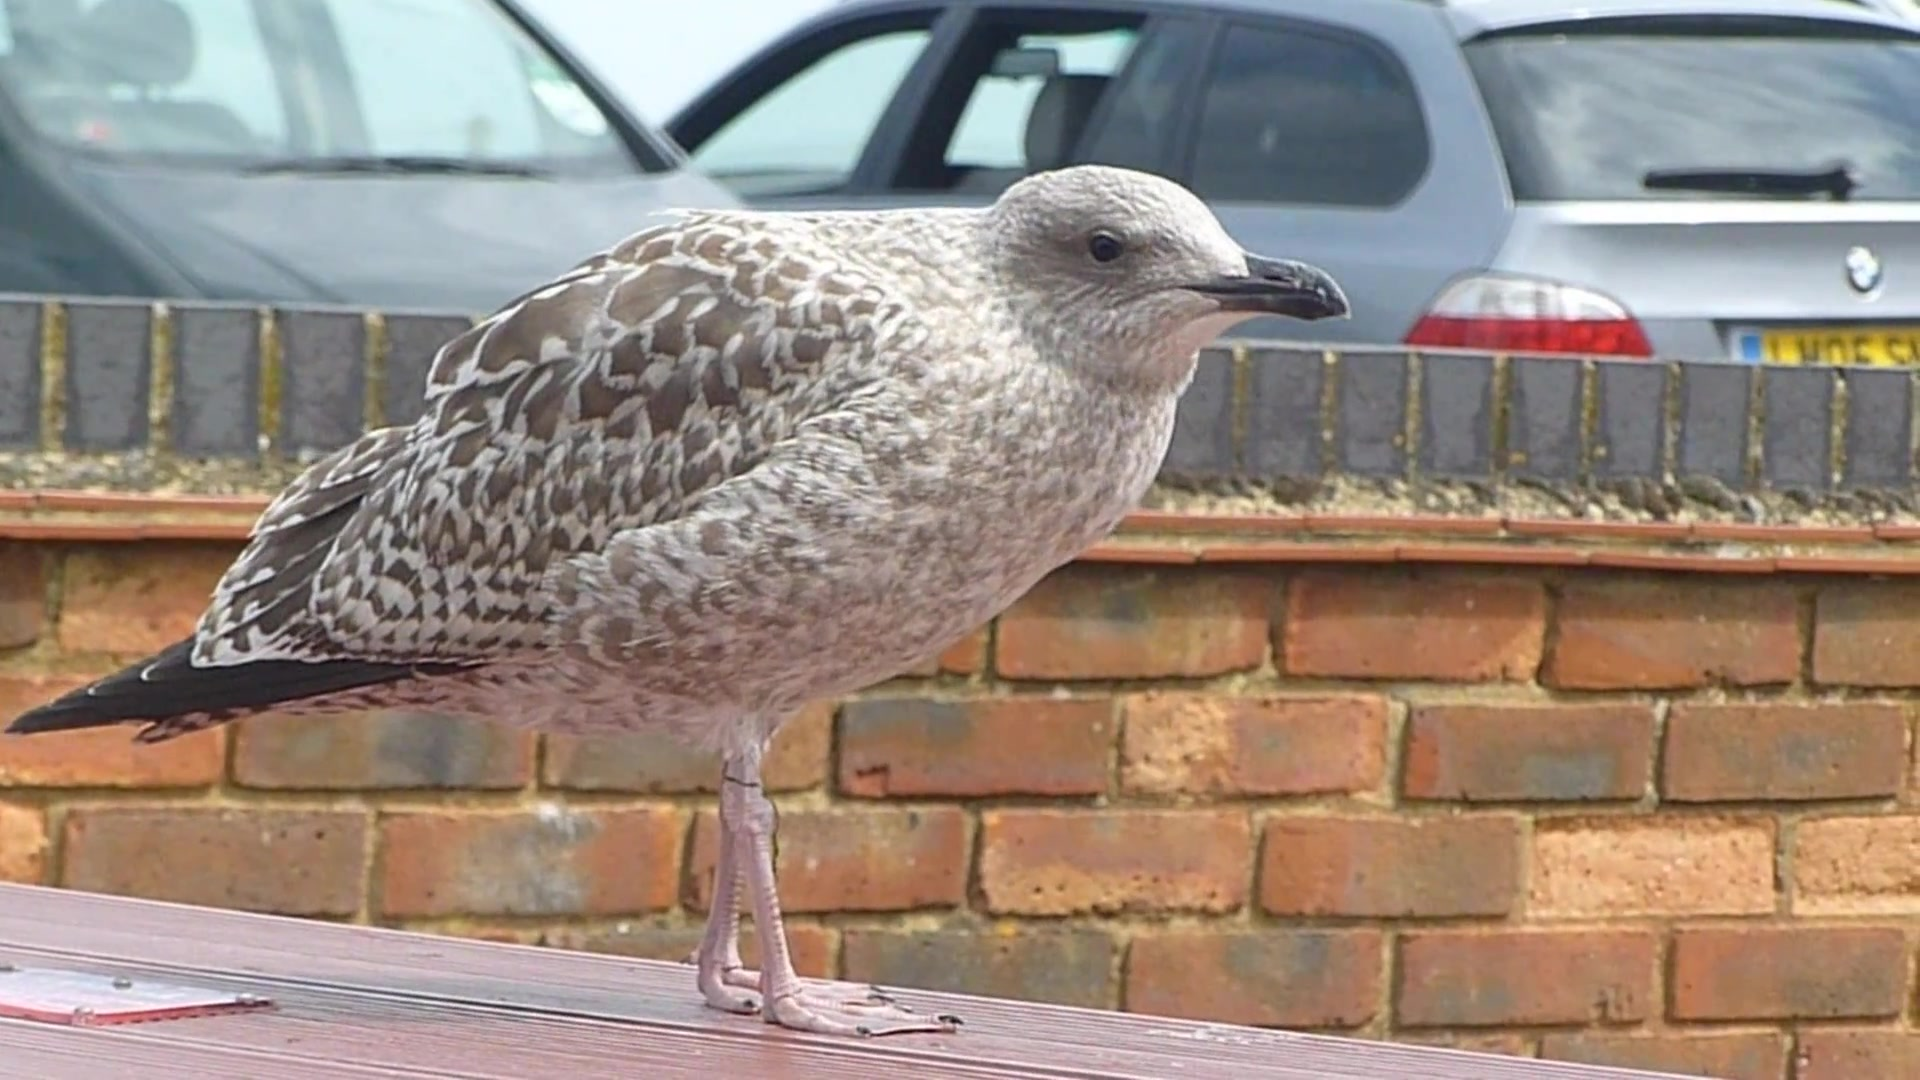bird: (5, 160, 1357, 1044)
